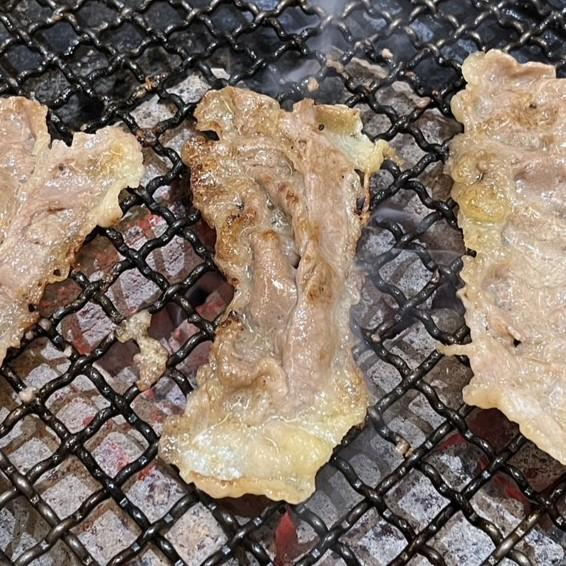Overcooked: (159, 86, 392, 505)
Well-Cooked: (446, 50, 565, 469), (0, 127, 144, 367)
